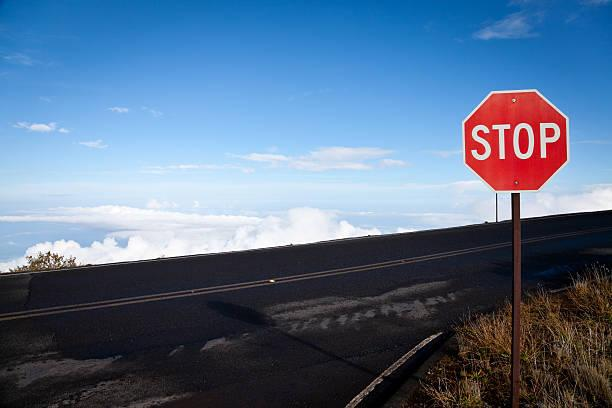Pole: (510, 193, 521, 408)
Sign: (461, 89, 568, 194)
